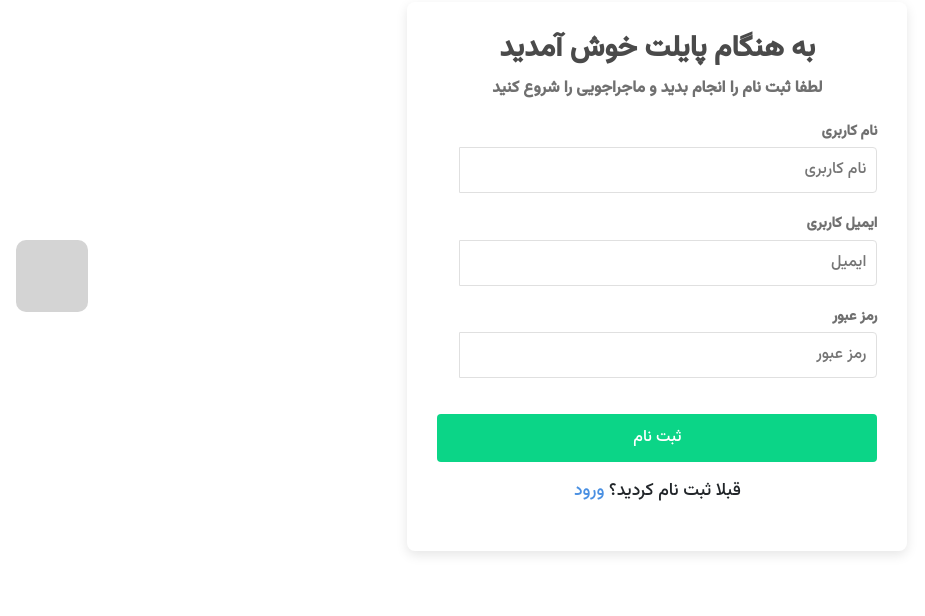
Test: SignUpPage › shows error when email is missing @ symbol
The width and height of the screenshot is (925, 616).
Enter email without @ symbol
In the field labelled "نام کاربری": (668, 170) [459, 147, 877, 193], type "newUser"
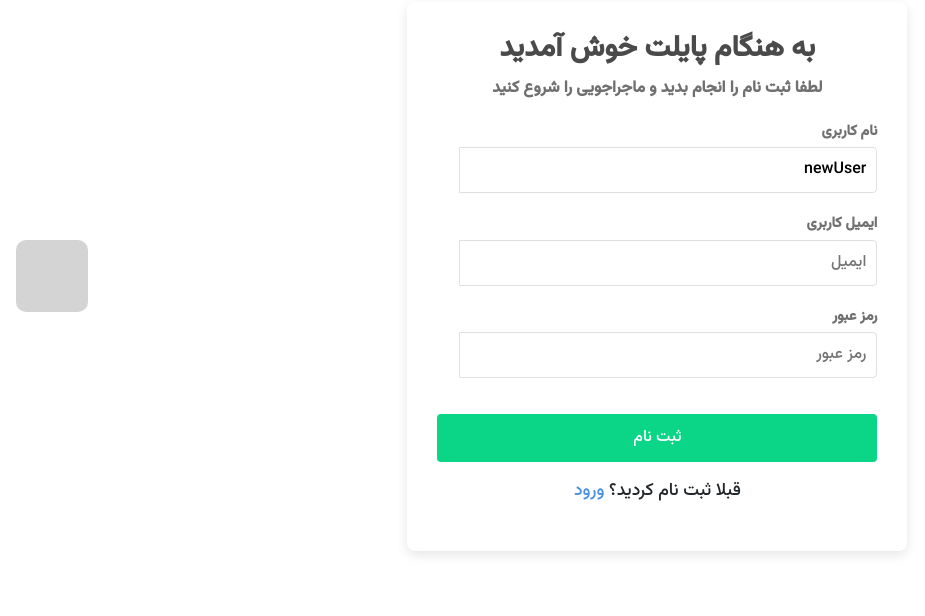
In the field labelled "ایمیل کاربری": (668, 263) [459, 240, 877, 286], type "invalidEmail.com"
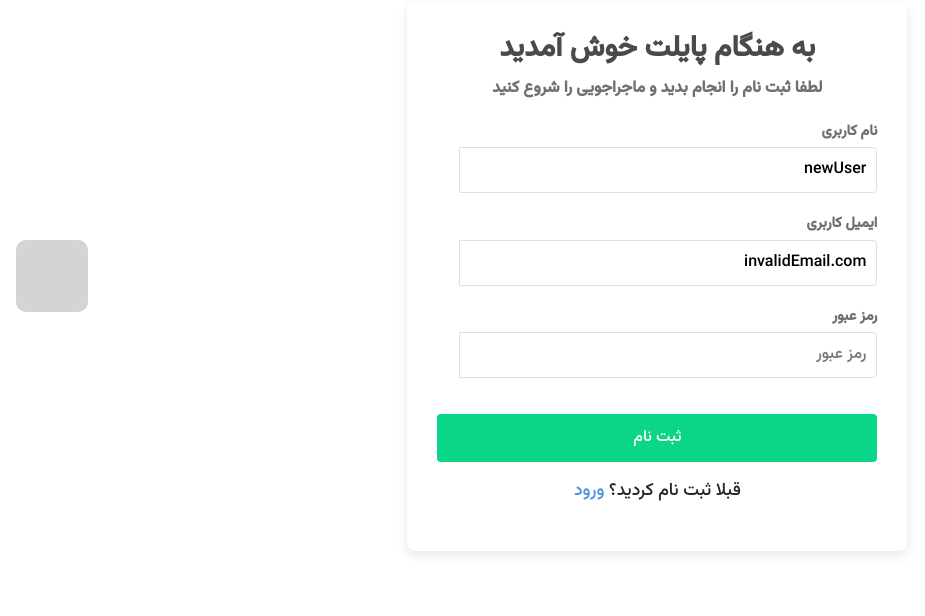
In the password field labelled "رمز عبور": (668, 355) [459, 332, 877, 378], type "Password123!"
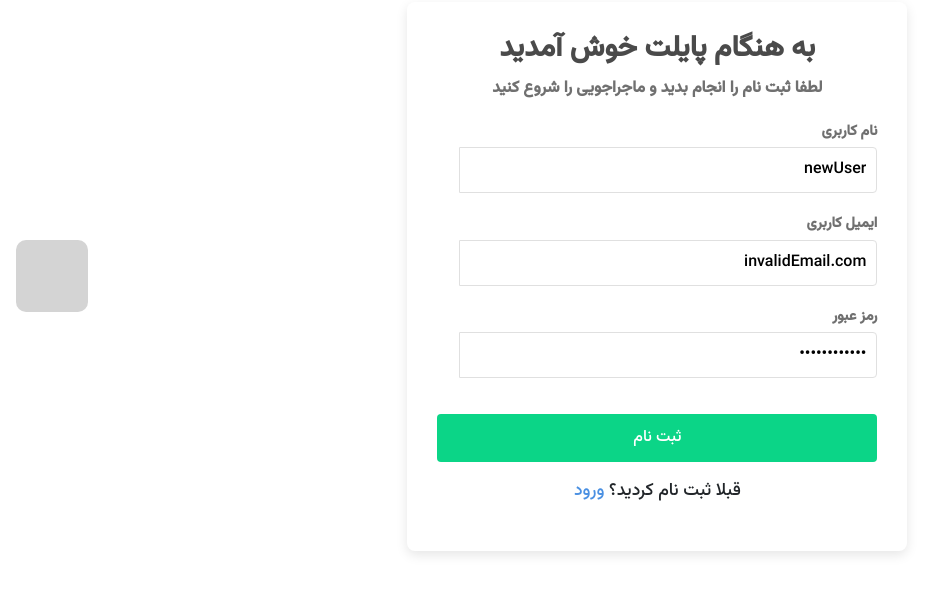
Click the button "ثبت نام": (657, 438) [437, 414, 877, 462]
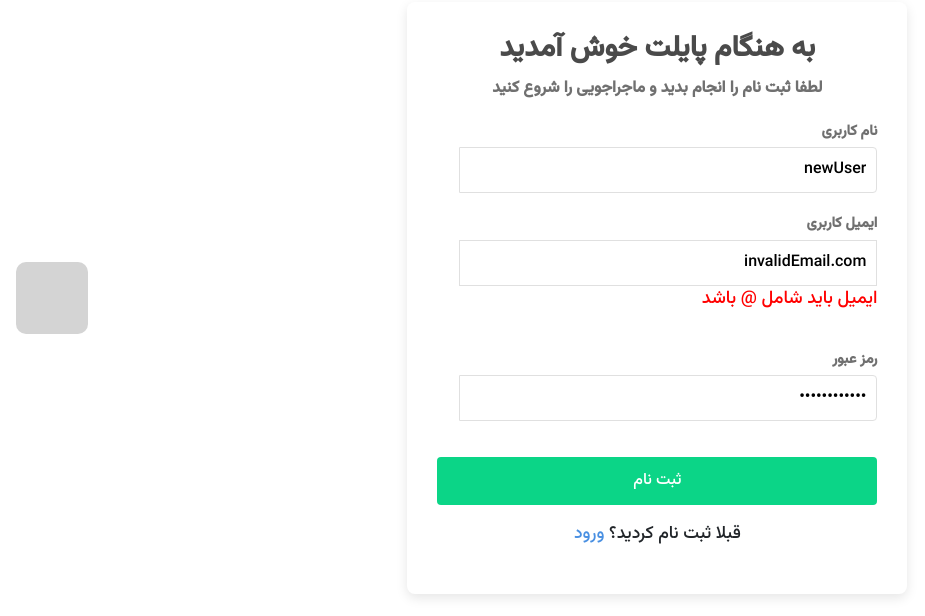
Now the text "ایمیل باید شامل @ باشد" is shown, box [702, 286, 877, 313]
